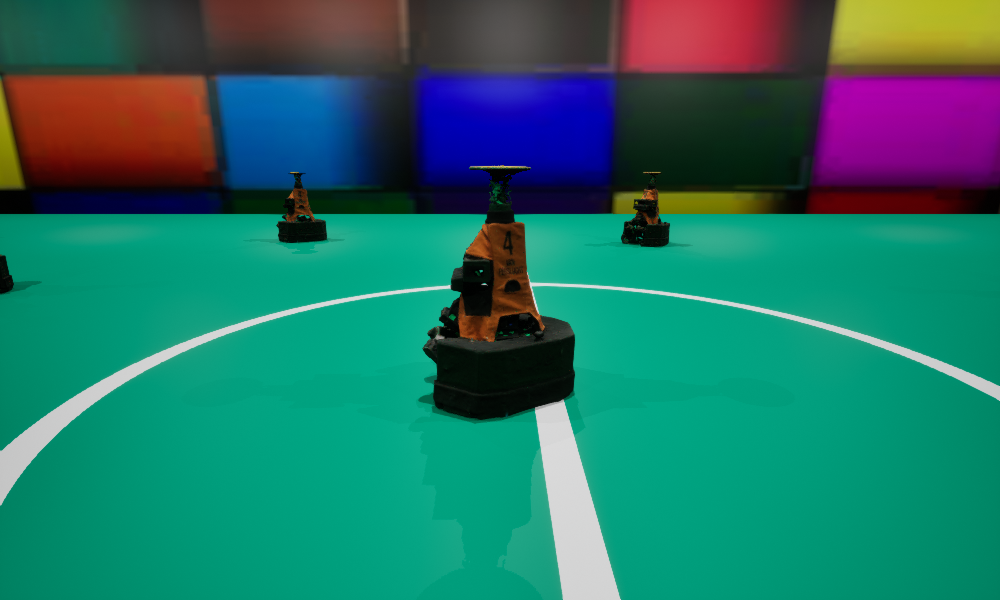o: (422, 165, 574, 418), (621, 172, 669, 245), (276, 172, 326, 241), (0, 255, 13, 291)
